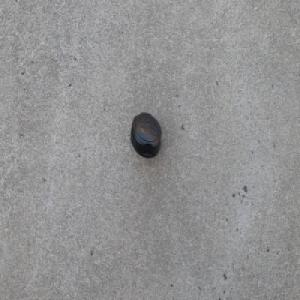FuelCap: (130, 111, 162, 159)
